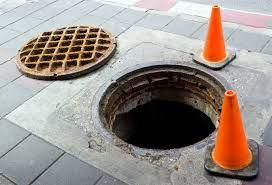open manhole-not overflowing-: (12, 16, 241, 153)
